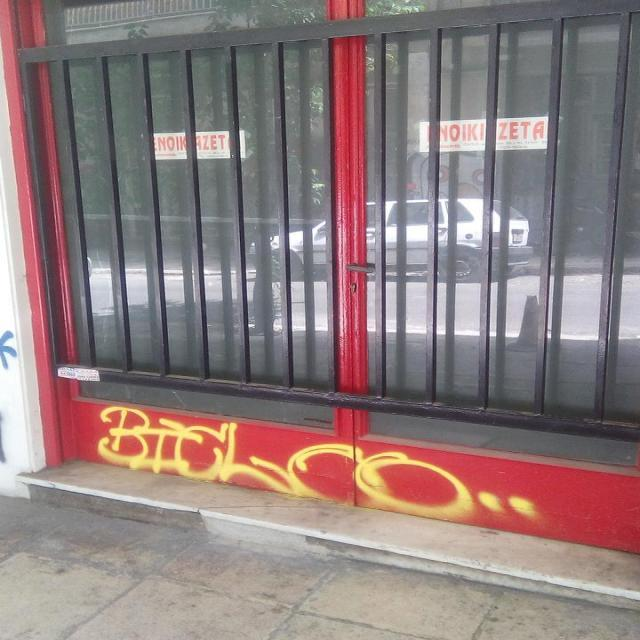nonspitting: (96, 404, 537, 517)
